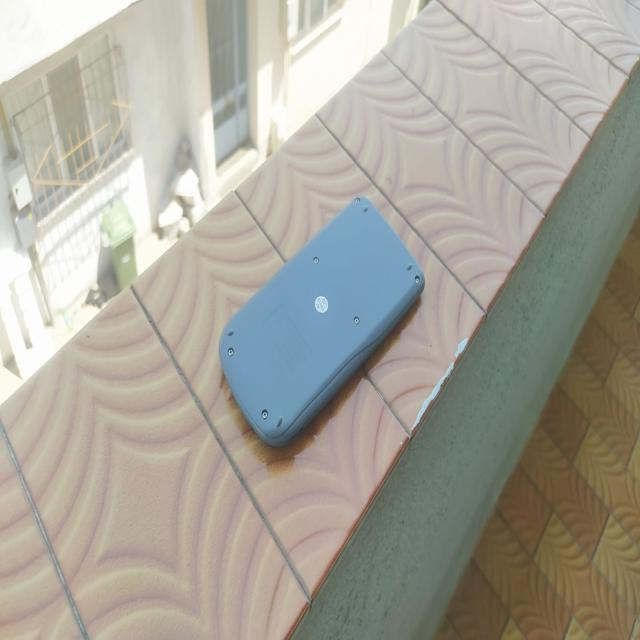Calculator: (217, 194, 426, 455)
